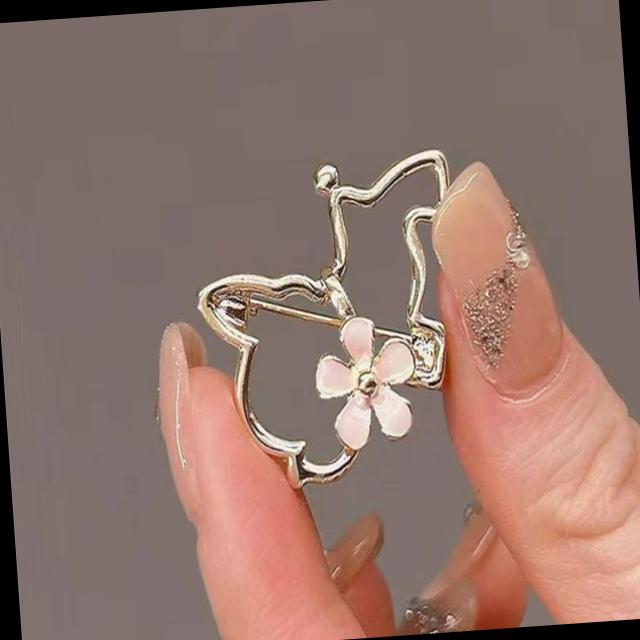Nail: (429, 158, 568, 394), (158, 321, 208, 524)
